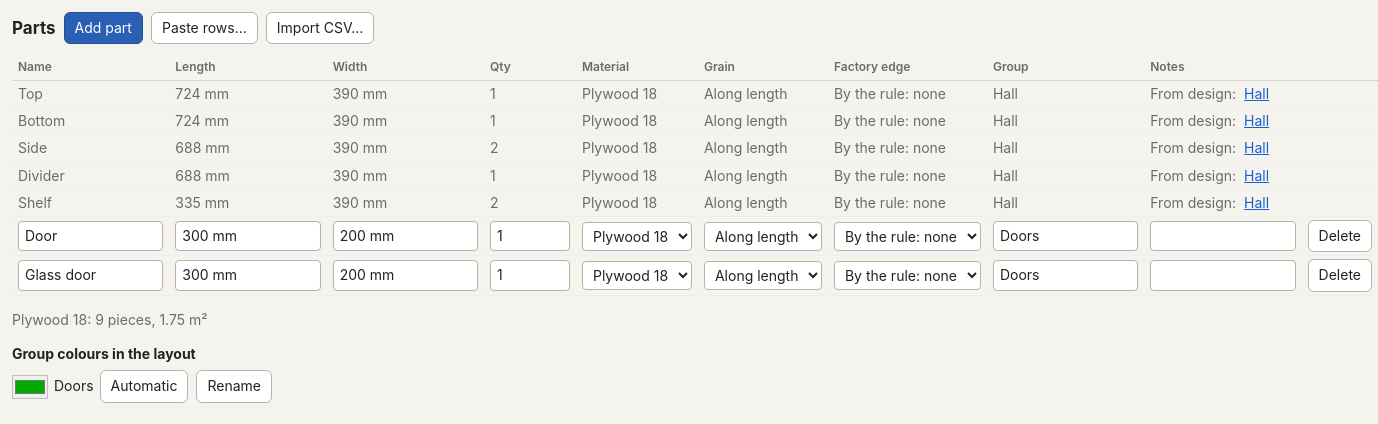
PartsTab › renames a group on all its parts, and the colour moves with it
Click the button with aria-label "Rename group Doors".
click(234, 387)  # box [196,370,272,403]
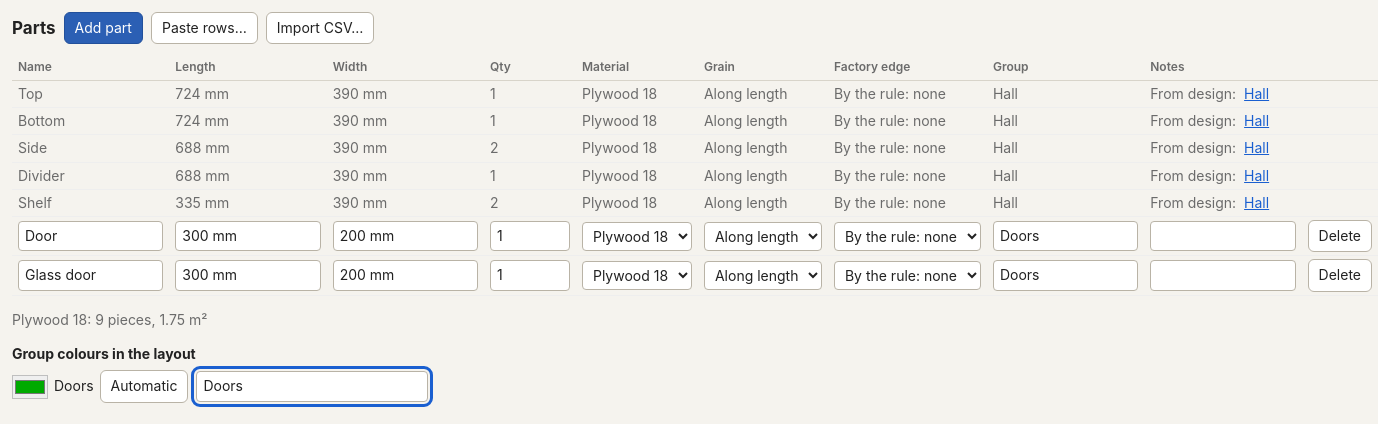
Replace the text in the field named "New name of group Doors" with "Fronts" at (312, 387), box [196,371,428,402]
Then press Escape
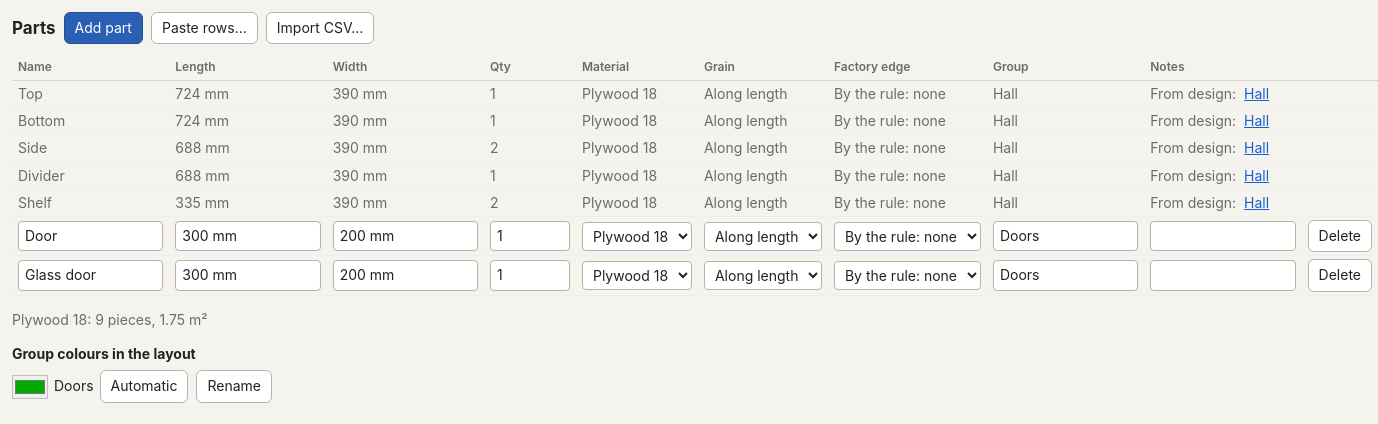
Click the button with aria-label "Rename group Doors".
click(234, 387)  # box [196,370,272,403]
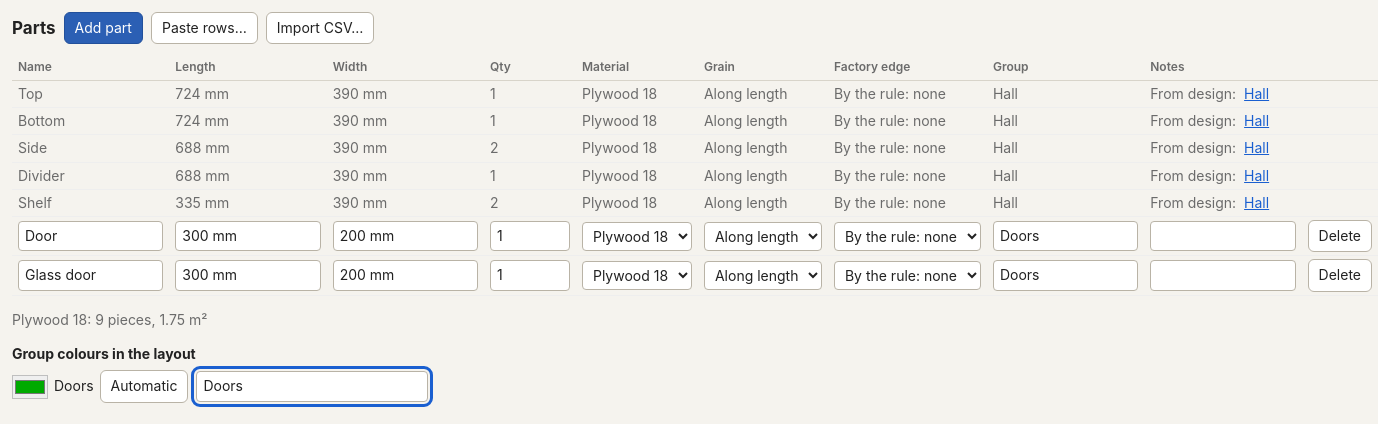
Replace the text in the field named "New name of group Doors" with "Fronts" at (312, 387), box [196,371,428,402]
Then press Enter
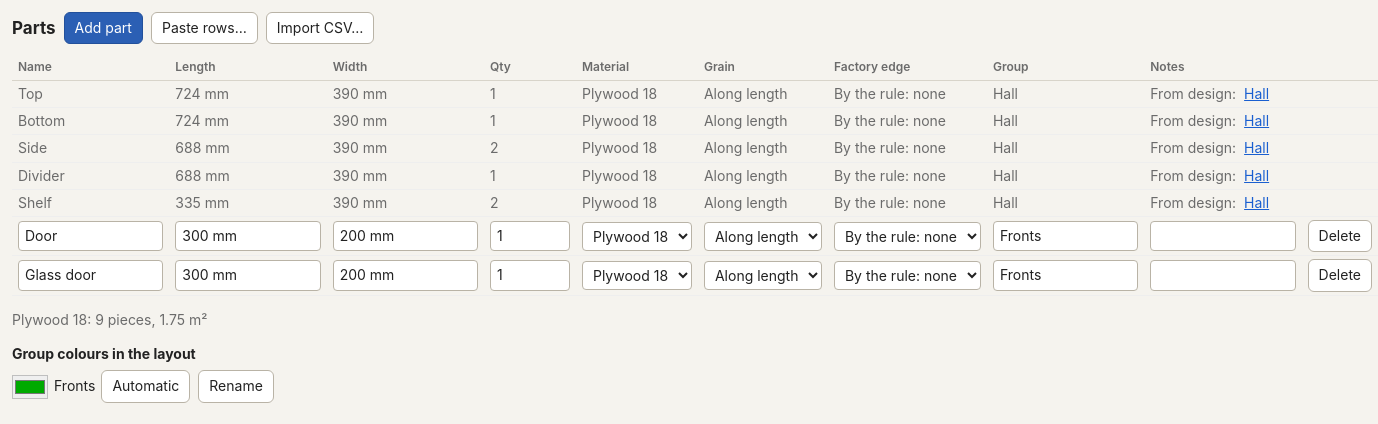
expect the colour field named "Colour of Fronts" holds "#00aa00": met, box [12,374,48,398]
expect the field named "Group of Glass door" holds "Fronts": met, box [993,260,1138,291]
